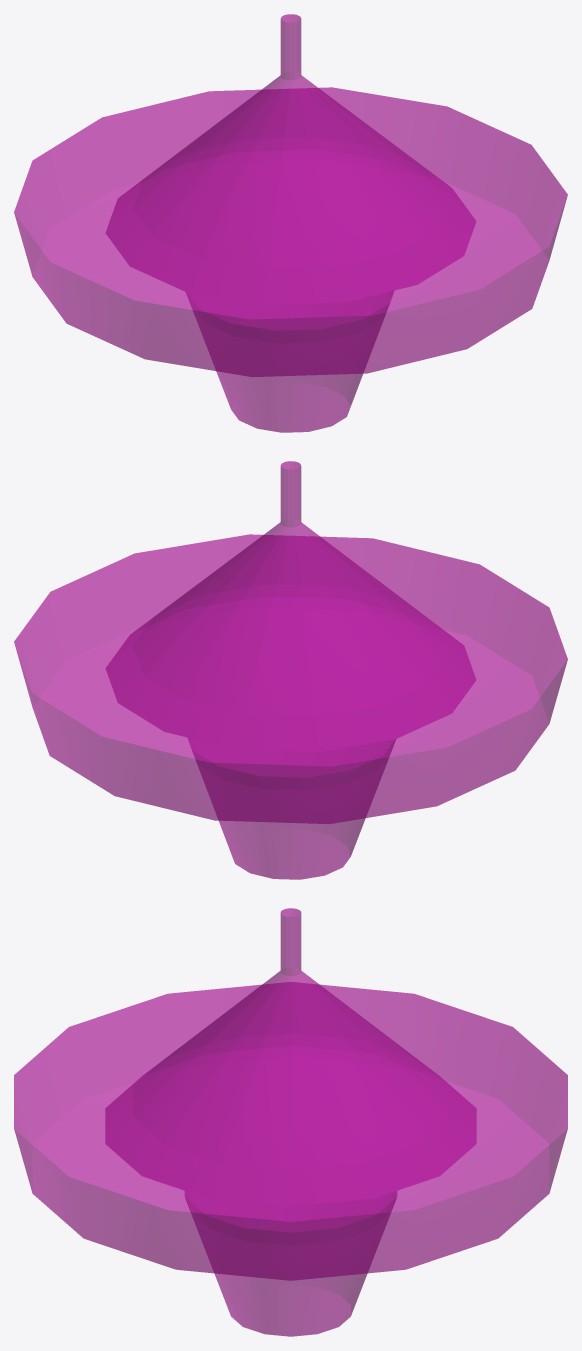
Rendered from SM_Prop_Swinging_Chairs_01_Rotate_01_Collision.fbx.
3 views of the same model, one above another, from view 1: azimuth 30°, elevation 25°; view 2: azimuth 150°, elevation 25°; view 3: azimuth 270°, elevation 25° (orthographic). The views are drawn at different scales.
Parts seen in each view (by area): view 1: SM_Prop_Swinging_Chairs_01_Rotate_01_Collision; view 2: SM_Prop_Swinging_Chairs_01_Rotate_01_Collision; view 3: SM_Prop_Swinging_Chairs_01_Rotate_01_Collision.
Part boxes in pixels (x1,y1,x2,y2): SM_Prop_Swinging_Chairs_01_Rotate_01_Collision: (14, 14, 567, 432); SM_Prop_Swinging_Chairs_01_Rotate_01_Collision: (14, 461, 567, 879); SM_Prop_Swinging_Chairs_01_Rotate_01_Collision: (14, 908, 567, 1336).
Size of the model in its own units: 1193 by 923 by 1163.
